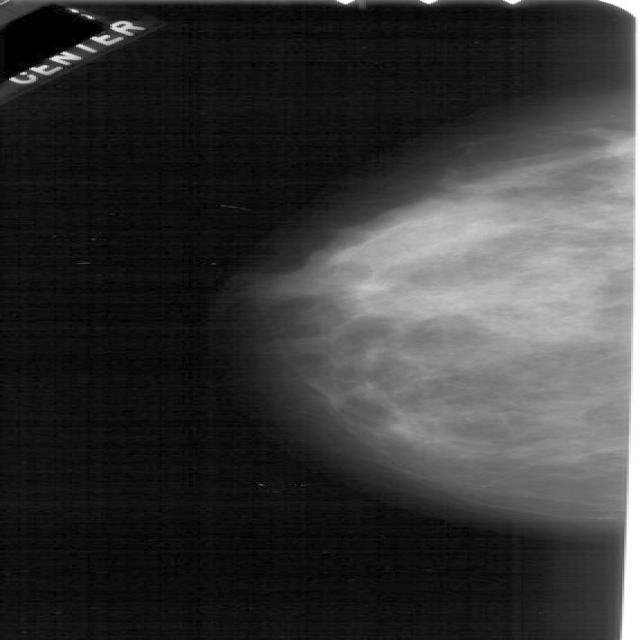tumour: (588, 136, 634, 155)
